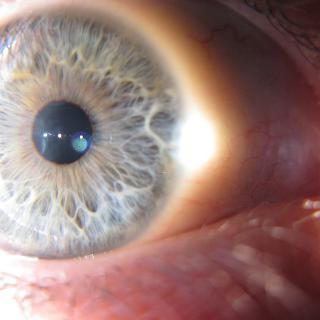pupil: (29, 99, 95, 165)
